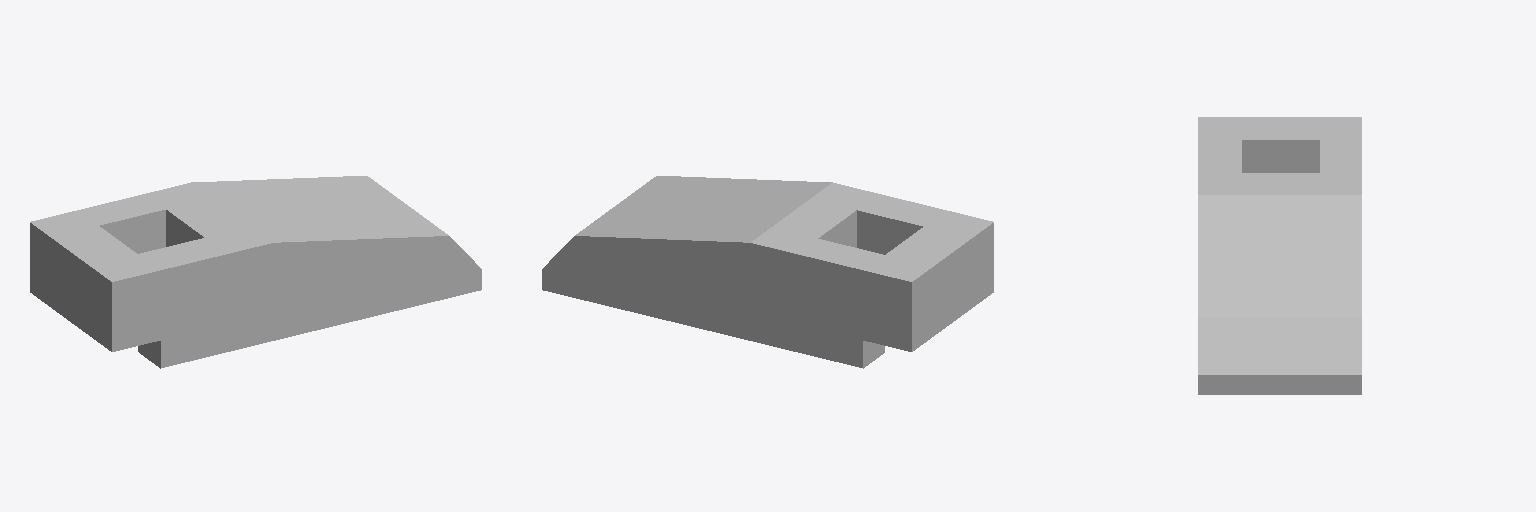
Rendered from finger_l.obj.
The picture shows the model from 3 angles: view 1: azimuth 30°, elevation 25°; view 2: azimuth 150°, elevation 25°; view 3: azimuth 270°, elevation 25°; orthographic projection.
Bounding box in the file's own units: 0.0553 × 0.014 × 0.0213.